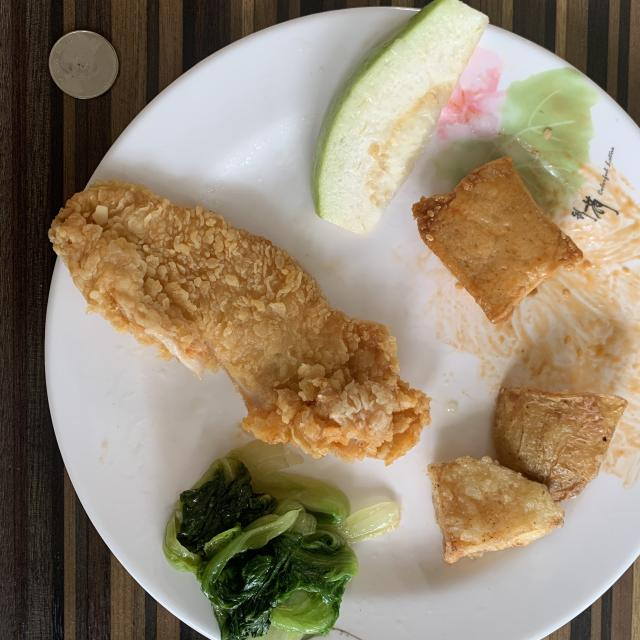coin: (49, 30, 119, 99)
creamy tofu: (412, 156, 582, 324)
fried chicken cutlet: (49, 180, 429, 461)
fried potato: (428, 388, 628, 564)
guava -sliced-: (311, 0, 489, 235)
mustard greens: (162, 441, 392, 640)
